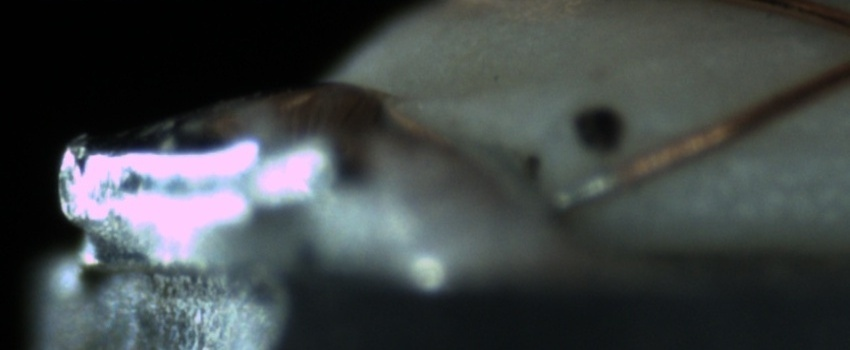DL: (752, 105, 850, 176)
TS: (547, 165, 621, 213)
